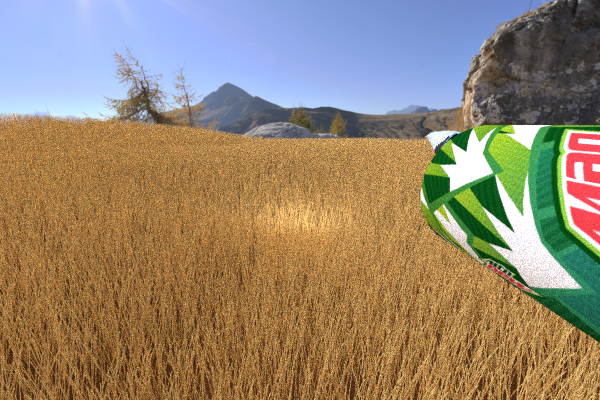Plastic Bottle: (420, 125, 600, 400), (420, 127, 553, 207)
